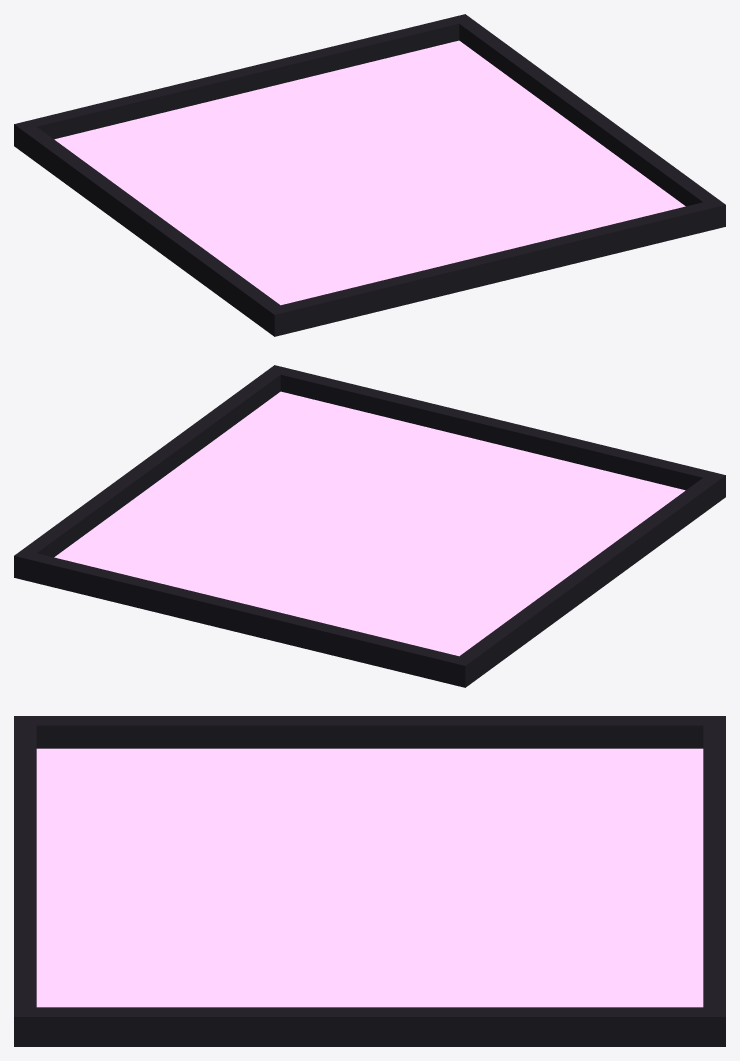
Rendered from OO_TileRed.fbx.
3 renders of one model, top to bottom at view 1: azimuth 30°, elevation 25°; view 2: azimuth 150°, elevation 25°; view 3: azimuth 270°, elevation 25°, orthographic. The views are drawn at different scales.
Parts seen in each view (by area): view 1: Tile_Red; view 2: Tile_Red; view 3: Tile_Red.
Part boxes in pixels (x1,y1,x2,y2): Tile_Red: (14, 14, 725, 336); Tile_Red: (14, 365, 725, 687); Tile_Red: (14, 716, 725, 1046).
Size of the model in its own units: 200 by 9.3 by 200.
